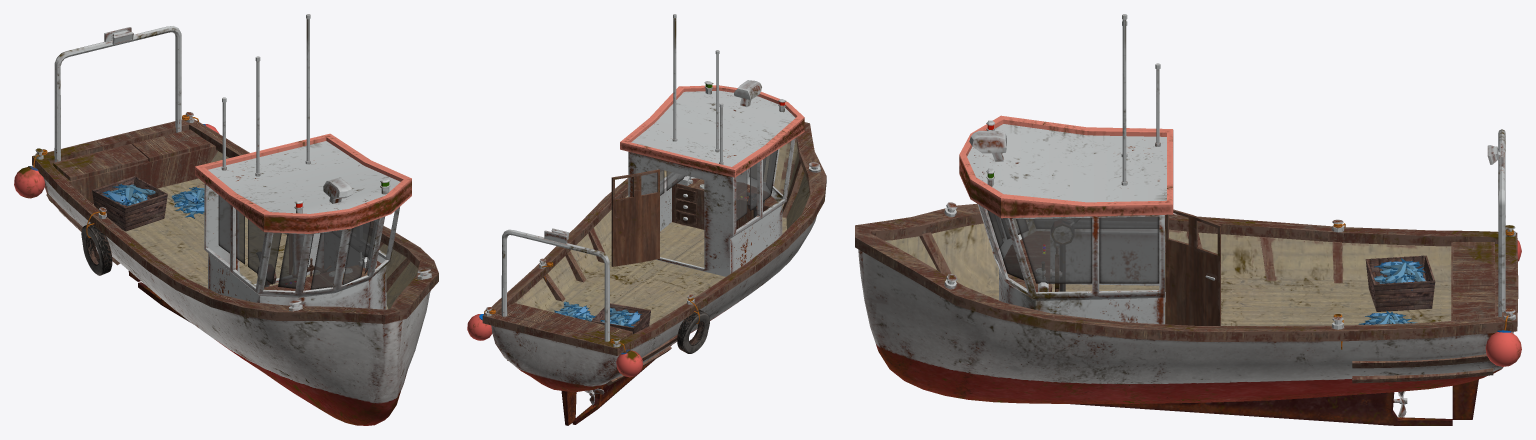
3 views of the same model, side by side, from view 1: azimuth 30°, elevation 25°; view 2: azimuth 150°, elevation 25°; view 3: azimuth 270°, elevation 25° (orthographic). The views are drawn at different scales.
Visible parts, largest first — view 1: polySurface186, pasted__pCube2, pasted__SM_Prop_Fish_Pile_12, pasted__SM_Prop_Fish_Pile_23; view 2: polySurface186, pasted__pCube2, pasted__SM_Prop_Fish_Pile_23, pasted__SM_Prop_Fish_Pile_12; view 3: polySurface186, pasted__pCube2, pasted__SM_Prop_Fish_Pile_23.
Part boxes in pixels (bbox=[...]): polySurface186: bbox=[14, 14, 438, 425]; pasted__pCube2: bbox=[92, 176, 167, 231]; pasted__SM_Prop_Fish_Pile_12: bbox=[171, 187, 204, 218]; pasted__SM_Prop_Fish_Pile_23: bbox=[102, 184, 155, 206]; polySurface186: bbox=[467, 14, 826, 425]; pasted__pCube2: bbox=[591, 303, 650, 333]; pasted__SM_Prop_Fish_Pile_23: bbox=[600, 307, 641, 327]; pasted__SM_Prop_Fish_Pile_12: bbox=[554, 301, 596, 321]; polySurface186: bbox=[855, 14, 1521, 425]; pasted__pCube2: bbox=[1365, 255, 1435, 311]; pasted__SM_Prop_Fish_Pile_23: bbox=[1374, 258, 1425, 290].
Bounding box in the file's own units: 1.95 × 3.23 × 4.6.
10 materials, 9 textured.
